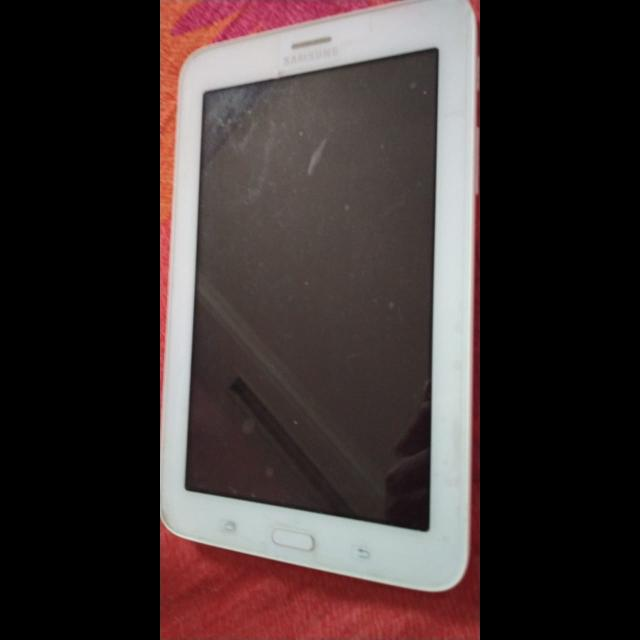Smartphone: (162, 1, 474, 602)
